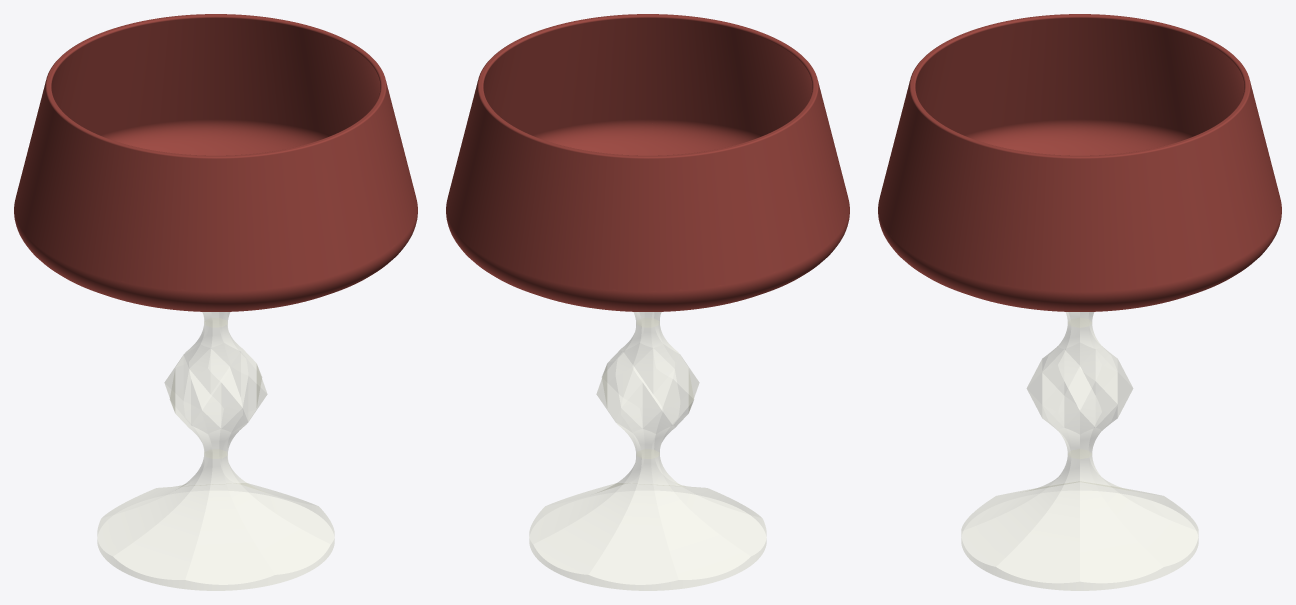
Rendered from wine2.glb.
The picture shows the model from 3 angles, left to right: view 1: azimuth 30°, elevation 25°; view 2: azimuth 150°, elevation 25°; view 3: azimuth 270°, elevation 25°; orthographic projection.
Visible parts, largest first — view 1: bowl, stem; view 2: bowl, stem; view 3: bowl, stem.
Part boxes in pixels (left/top/right/bottom): bowl: left=14, top=14, right=417, bottom=311; stem: left=97, top=312, right=334, bottom=590; bowl: left=446, top=14, right=849, bottom=311; stem: left=529, top=312, right=766, bottom=590; bowl: left=878, top=14, right=1281, bottom=311; stem: left=961, top=312, right=1198, bottom=590.
Bounding box in the file's own units: 14.79 × 18.39 × 14.79.
